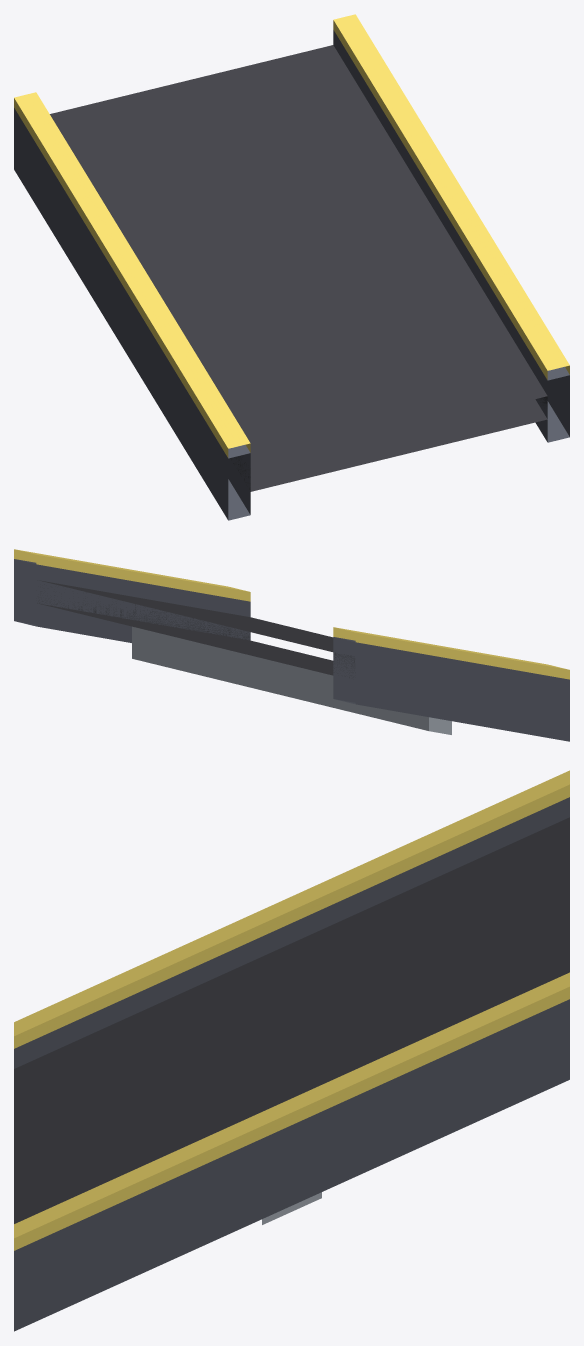
Rendered from esteira_rampa.glb.
3 views of the same model, one above another, from view 1: azimuth 30°, elevation 25°; view 2: azimuth 150°, elevation 25°; view 3: azimuth 270°, elevation 25° (orthographic). The views are drawn at different scales.
Parts seen in each view (by area): view 1: esteira_rampa; view 2: esteira_rampa; view 3: esteira_rampa.
Boxes of the visible parts, <box> form: esteira_rampa: <box>14,14,569,520</box>; esteira_rampa: <box>14,549,569,741</box>; esteira_rampa: <box>14,770,569,1331</box>.
Size of the model in its own units: 0.92 by 0.685 by 1.
